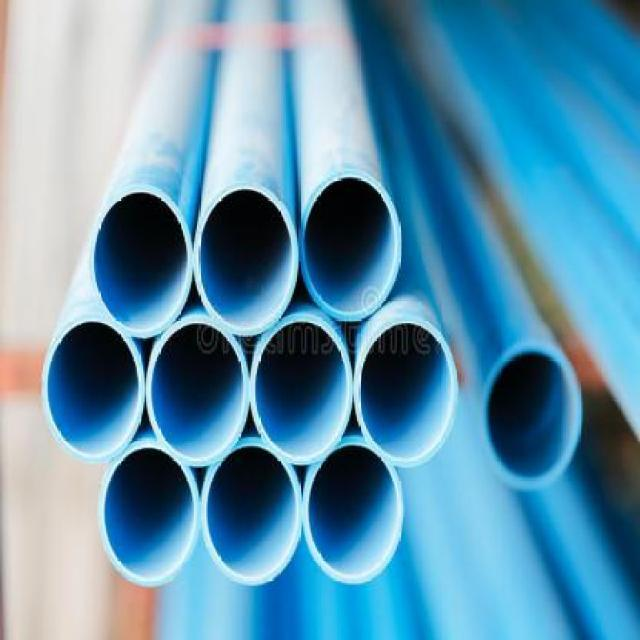pipe: (354, 315, 459, 468), (89, 184, 191, 340), (194, 182, 297, 336), (146, 313, 248, 467), (250, 314, 353, 465), (299, 169, 401, 320), (42, 313, 145, 461), (201, 438, 303, 586), (303, 435, 403, 583), (98, 442, 200, 587)
